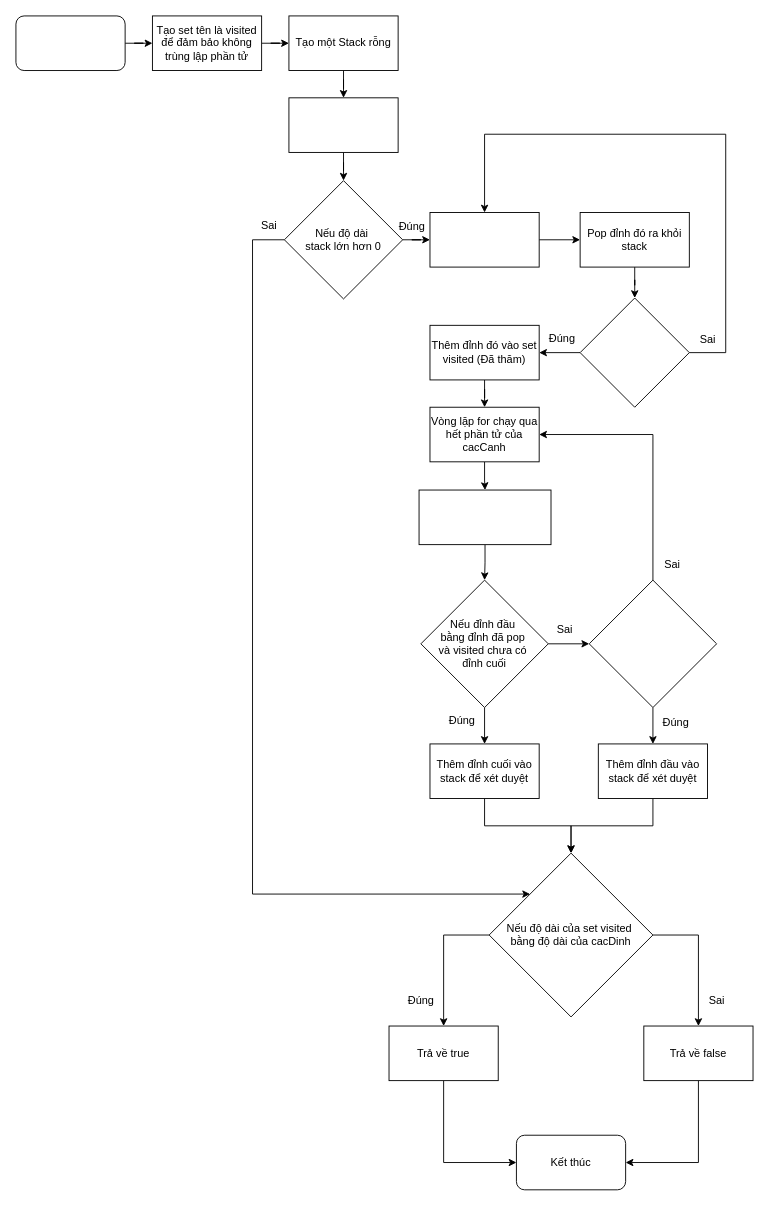
This 769x1206 diagram has some shape labels left out. The shapes that lost their labels are listed below. From the top down, each one's centre as x and y in pixels, then its label:
At (x=70, y=43): "Bắt đầu".
At (x=343, y=124): "Đẩy đỉnh đầu tiên vào Stack".
At (x=484, y=239): "Chạy vòng lặp while".
At (x=634, y=352): "Nếu visited chưa có đỉnh đó".
At (x=484, y=517): "Cho 2 biến chứa đỉnh đầu và đỉnh cuối của một phần tử trong mảng cacCanh ([A,B])".
At (x=652, y=643): "Nếu đỉnh cuối bằng đỉnh đã pop và visited chưa có đỉnh đầu".
